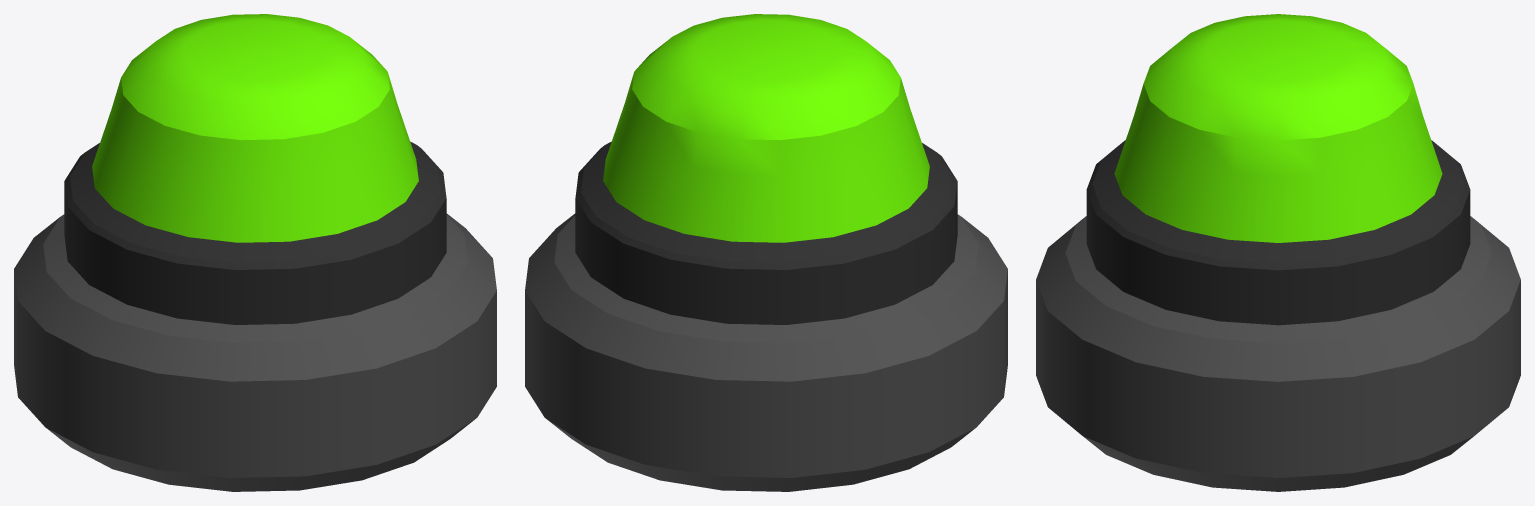
The model's file is SM_LED_vert.fbx.
The picture shows the model from 3 angles, left to right: view 1: azimuth 30°, elevation 25°; view 2: azimuth 150°, elevation 25°; view 3: azimuth 270°, elevation 25°; orthographic projection.
Parts seen in each view (by area): view 1: pCylinder6; view 2: pCylinder6; view 3: pCylinder6.
Part boxes in pixels (x1,y1,x2,y2): pCylinder6: (14,14,496,491); pCylinder6: (525,14,1007,491); pCylinder6: (1036,14,1520,491).
Bounding box in the file's own units: 0.5123 × 0.4089 × 0.5123.
